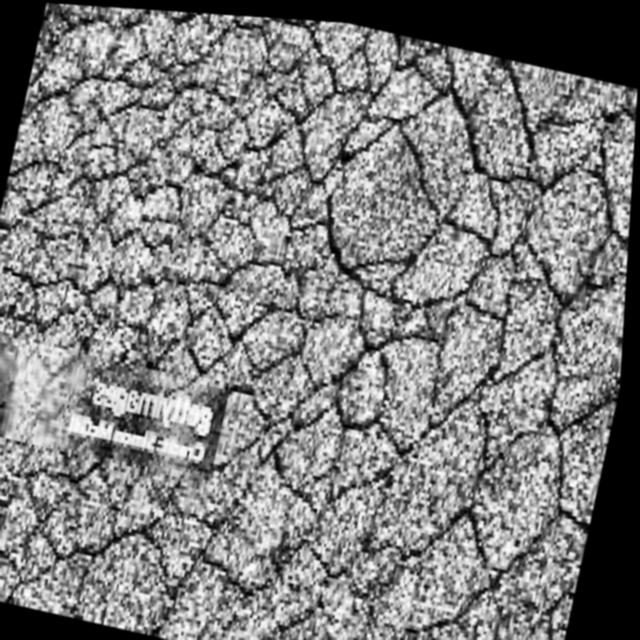alligator_cracks: (7, 37, 638, 436)
